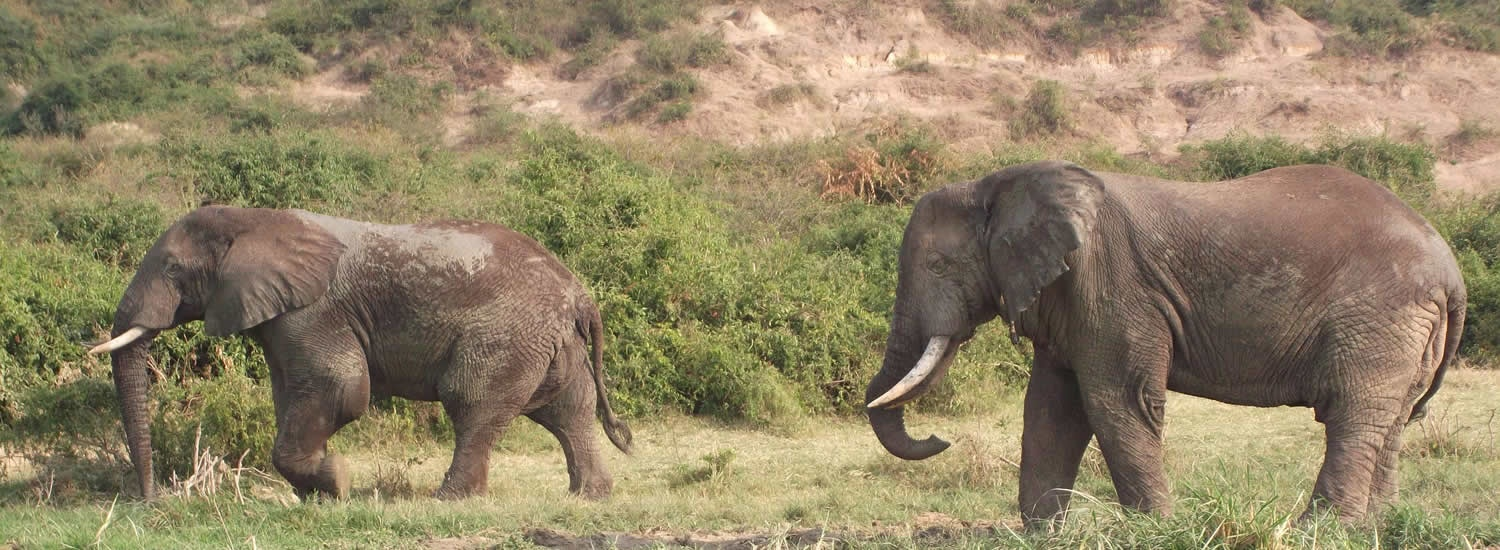elephant: (858, 149, 1473, 533), (79, 189, 646, 534)
